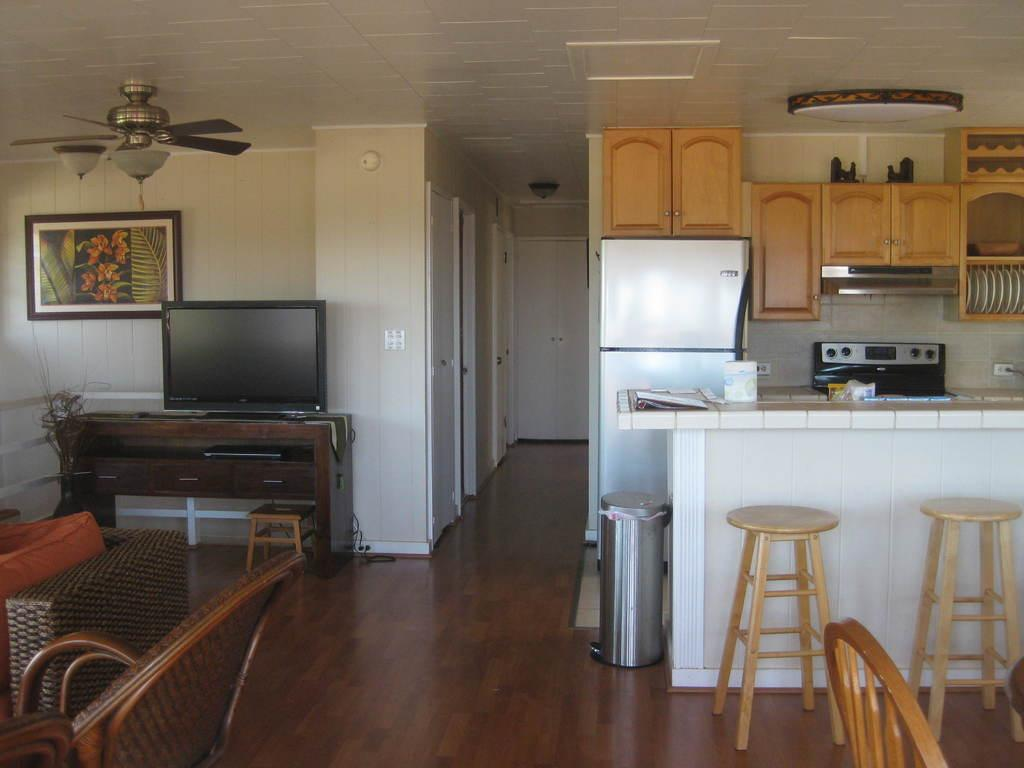cabinet_door: (752, 189, 818, 318), (604, 134, 674, 236), (673, 131, 737, 237), (824, 188, 894, 266), (892, 191, 959, 266), (228, 458, 306, 500), (150, 460, 210, 499), (86, 464, 152, 496)
handle: (260, 474, 295, 492), (97, 470, 121, 482), (184, 480, 206, 489)
